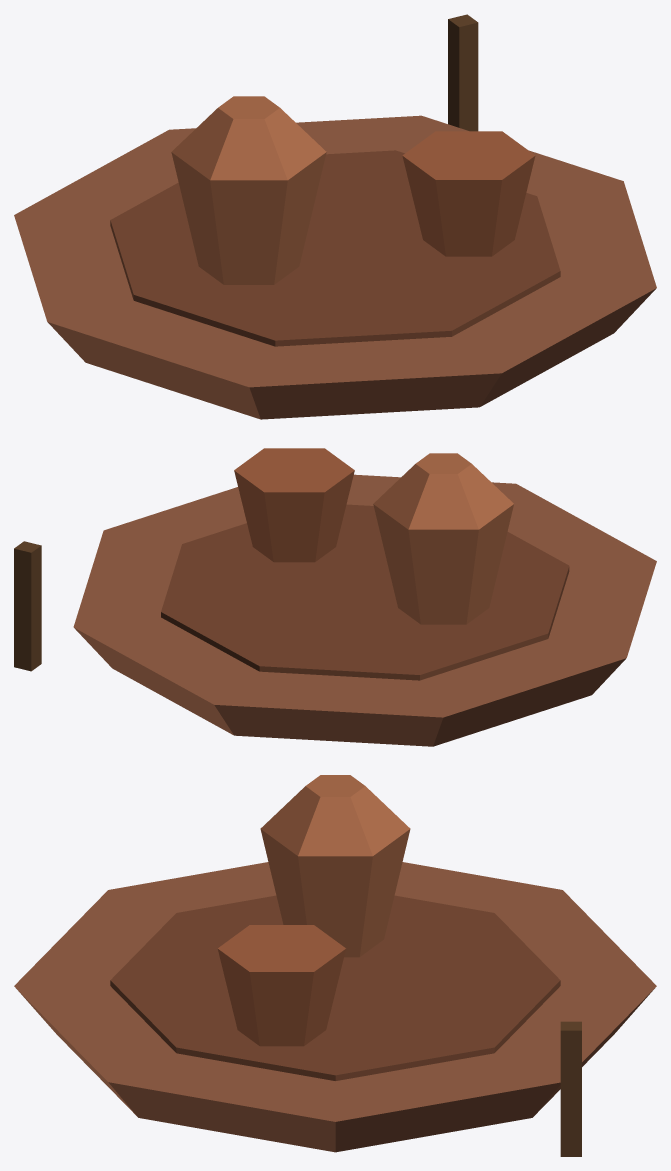
Rendered from clay-pit.glb.
3 renders of one model, top to bottom at view 1: azimuth 30°, elevation 25°; view 2: azimuth 150°, elevation 25°; view 3: azimuth 270°, elevation 25°, orthographic. The views are drawn at different scales.
Parts seen in each view (by area): view 1: clay_pit; view 2: clay_pit; view 3: clay_pit.
Part boxes in pixels (x1,y1,x2,y2): clay_pit: (14,14,656,419); clay_pit: (14,448,656,746); clay_pit: (14,775,656,1156).
Size of the model in its own units: 0.3 by 0.107 by 0.3.
